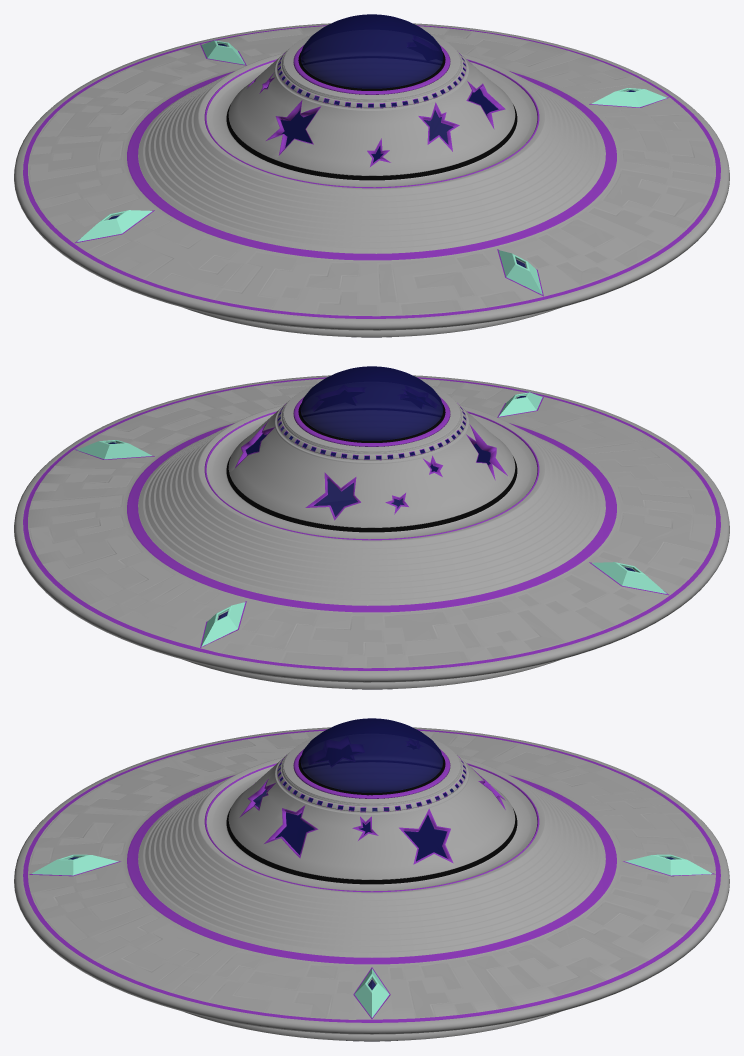
File: spaceship_outside .fbx
The picture shows the model from 3 angles, top to bottom: view 1: azimuth 30°, elevation 25°; view 2: azimuth 150°, elevation 25°; view 3: azimuth 270°, elevation 25°; orthographic projection.
Visible parts, largest first — view 1: Cylinder_final; view 2: Cylinder_final; view 3: Cylinder_final.
Part boxes in pixels (left/top/right/bottom): Cylinder_final: left=14, top=14, right=729, bottom=337; Cylinder_final: left=14, top=366, right=729, bottom=689; Cylinder_final: left=14, top=718, right=729, bottom=1041.
Bounding box in the file's own units: 1135 × 408 × 1135.
